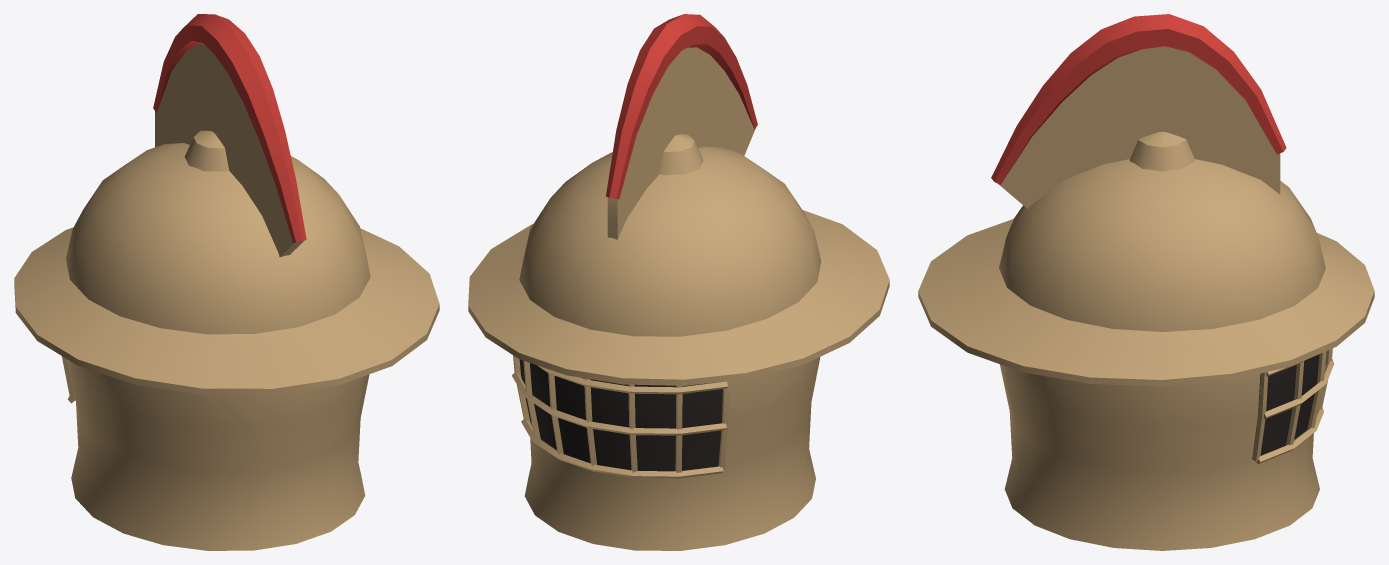
File: murmillo.glb
3 renders of one model, left to right at view 1: azimuth 30°, elevation 25°; view 2: azimuth 150°, elevation 25°; view 3: azimuth 270°, elevation 25°, orthographic. The views are drawn at different scales.
Parts seen in each view (by area): view 1: OUT; view 2: OUT; view 3: OUT.
Boxes of the visible parts, x1,y1,x2,y2 form: OUT: (14,14,439,550); OUT: (468,14,889,550); OUT: (918,14,1374,550).
Bounding box in the file's own units: 0.3585 × 0.4461 × 0.3872.
